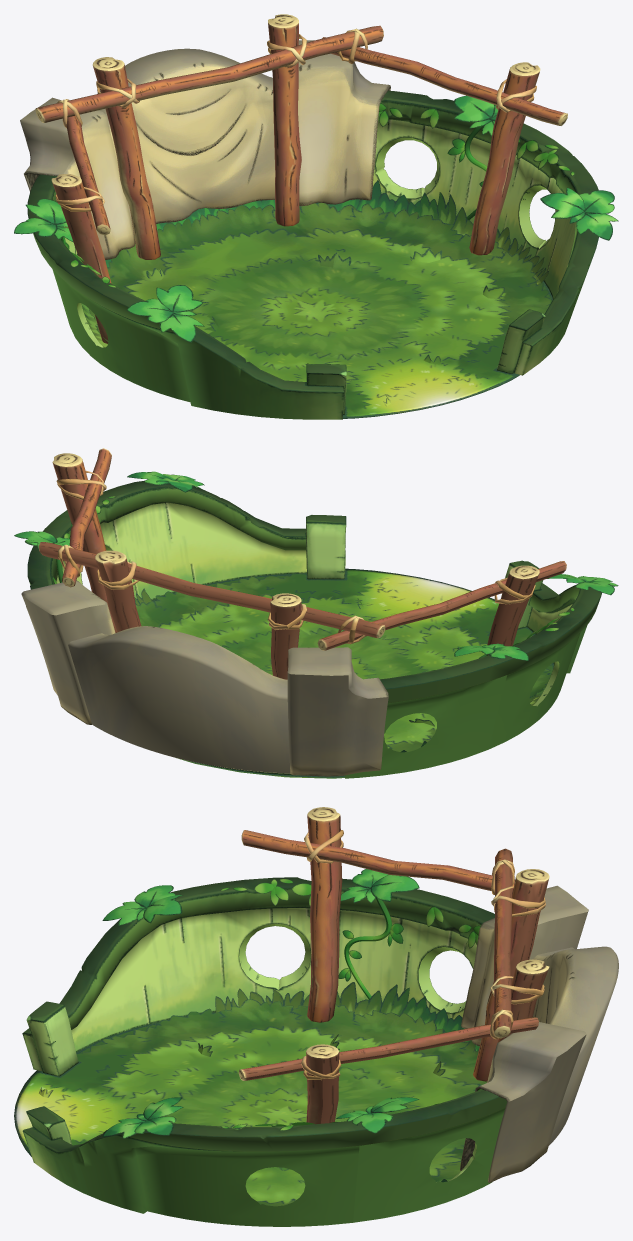
File: Grass Tent.obj
The picture shows the model from 3 angles, top to bottom: view 1: azimuth 30°, elevation 25°; view 2: azimuth 150°, elevation 25°; view 3: azimuth 270°, elevation 25°; orthographic projection. The views are drawn at different scales.
Parts seen in each view (by area): view 1: ground_mdl_ground_mdl.001, wall_mdl_wall_mdl.001, clothcover_mdl_clothcover_mdl.001, woodframe_mdl_woodframe_mdl.001, wall_grass_mdl_wall_grass_mdl.001, ground_grass_edge_mdl_ground_grass_edge_mdl.001, wall_pillar_mdl_wall_pillar_mdl.001, ground_grass1_mdl_ground_grass1_mdl.001; view 2: clothcover_mdl_clothcover_mdl.001, wall_mdl_wall_mdl.001, ground_mdl_ground_mdl.001, woodframe_mdl_woodframe_mdl.001, wall_grass_mdl_wall_grass_mdl.001, wall_pillar_mdl_wall_pillar_mdl.001, ground_edge_mdl_ground_edge_mdl.001; view 3: wall_mdl_wall_mdl.001, ground_mdl_ground_mdl.001, woodframe_mdl_woodframe_mdl.001, clothcover_mdl_clothcover_mdl.001, wall_grass_mdl_wall_grass_mdl.001, wall_pillar_mdl_wall_pillar_mdl.001, ground_grass_edge_mdl_ground_grass_edge_mdl.001.
Boxes of the visible parts, bbox=[...] form: ground_mdl_ground_mdl.001: bbox=[88, 202, 552, 418]; wall_mdl_wall_mdl.001: bbox=[27, 90, 598, 419]; clothcover_mdl_clothcover_mdl.001: bbox=[20, 40, 390, 259]; woodframe_mdl_woodframe_mdl.001: bbox=[35, 14, 567, 343]; wall_grass_mdl_wall_grass_mdl.001: bbox=[14, 95, 618, 342]; ground_grass_edge_mdl_ground_grass_edge_mdl.001: bbox=[77, 180, 548, 347]; wall_pillar_mdl_wall_pillar_mdl.001: bbox=[306, 309, 545, 414]; ground_grass1_mdl_ground_grass1_mdl.001: bbox=[146, 248, 504, 406]; clothcover_mdl_clothcover_mdl.001: bbox=[21, 580, 388, 776]; wall_mdl_wall_mdl.001: bbox=[27, 480, 601, 778]; ground_mdl_ground_mdl.001: bbox=[135, 568, 552, 778]; woodframe_mdl_woodframe_mdl.001: bbox=[38, 448, 566, 679]; wall_grass_mdl_wall_grass_mdl.001: bbox=[14, 471, 618, 670]; wall_pillar_mdl_wall_pillar_mdl.001: bbox=[306, 515, 543, 628]; ground_edge_mdl_ground_edge_mdl.001: bbox=[152, 574, 553, 777]; wall_mdl_wall_mdl.001: bbox=[22, 877, 506, 1226]; ground_mdl_ground_mdl.001: bbox=[14, 999, 486, 1206]; woodframe_mdl_woodframe_mdl.001: bbox=[238, 807, 549, 1124]; clothcover_mdl_clothcover_mdl.001: bbox=[460, 885, 618, 1182]; wall_grass_mdl_wall_grass_mdl.001: bbox=[102, 869, 482, 1138]; wall_pillar_mdl_wall_pillar_mdl.001: bbox=[26, 1001, 78, 1144]; ground_grass_edge_mdl_ground_grass_edge_mdl.001: bbox=[215, 982, 479, 1182].
Size of the model in its own units: 7.89 by 2.73 by 7.58.
Materials: 4 (4 with a texture image).
